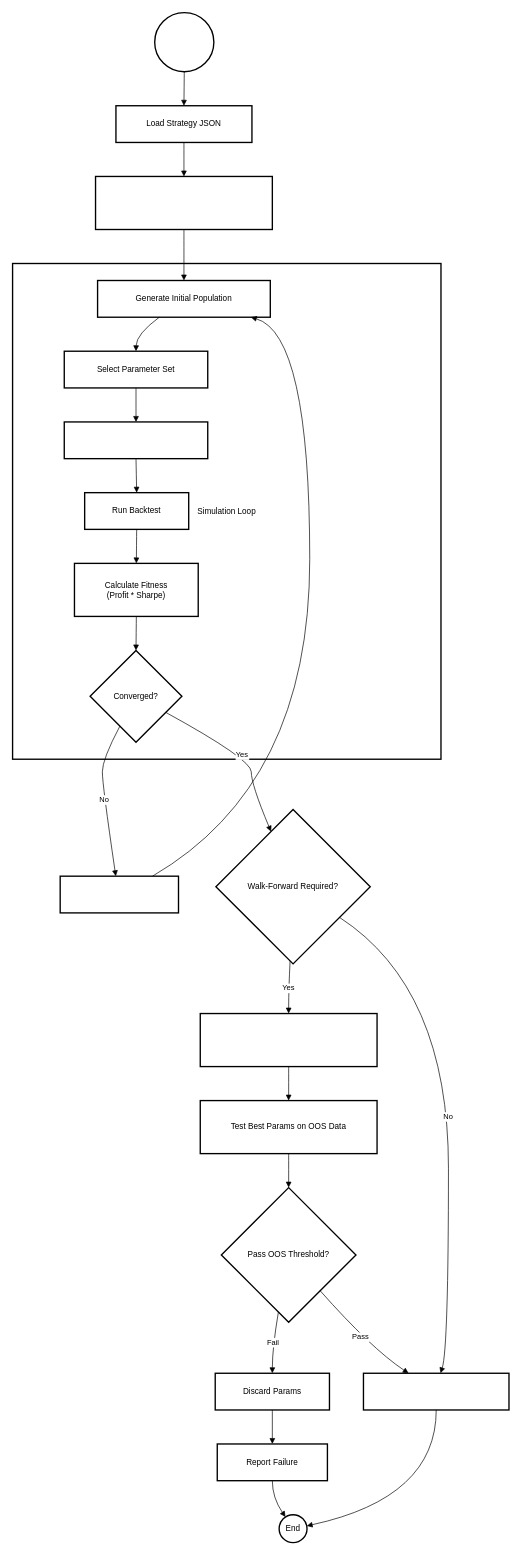
The diagram is 521 pixels wide and 1554 high, and some of its shapes have lost their labels. Each missing label, with the box of its shape:
Evolve / Mutate: (59, 875, 179, 913)
Fetch Historical Data: (63, 421, 208, 459)
Inspect Parameters & Ranges: (95, 175, 273, 230)
Save Best Parameters: (362, 1372, 509, 1410)
Split In-Sample / Out-of-Sample: (199, 1013, 377, 1067)
User Start: (154, 12, 214, 72)
